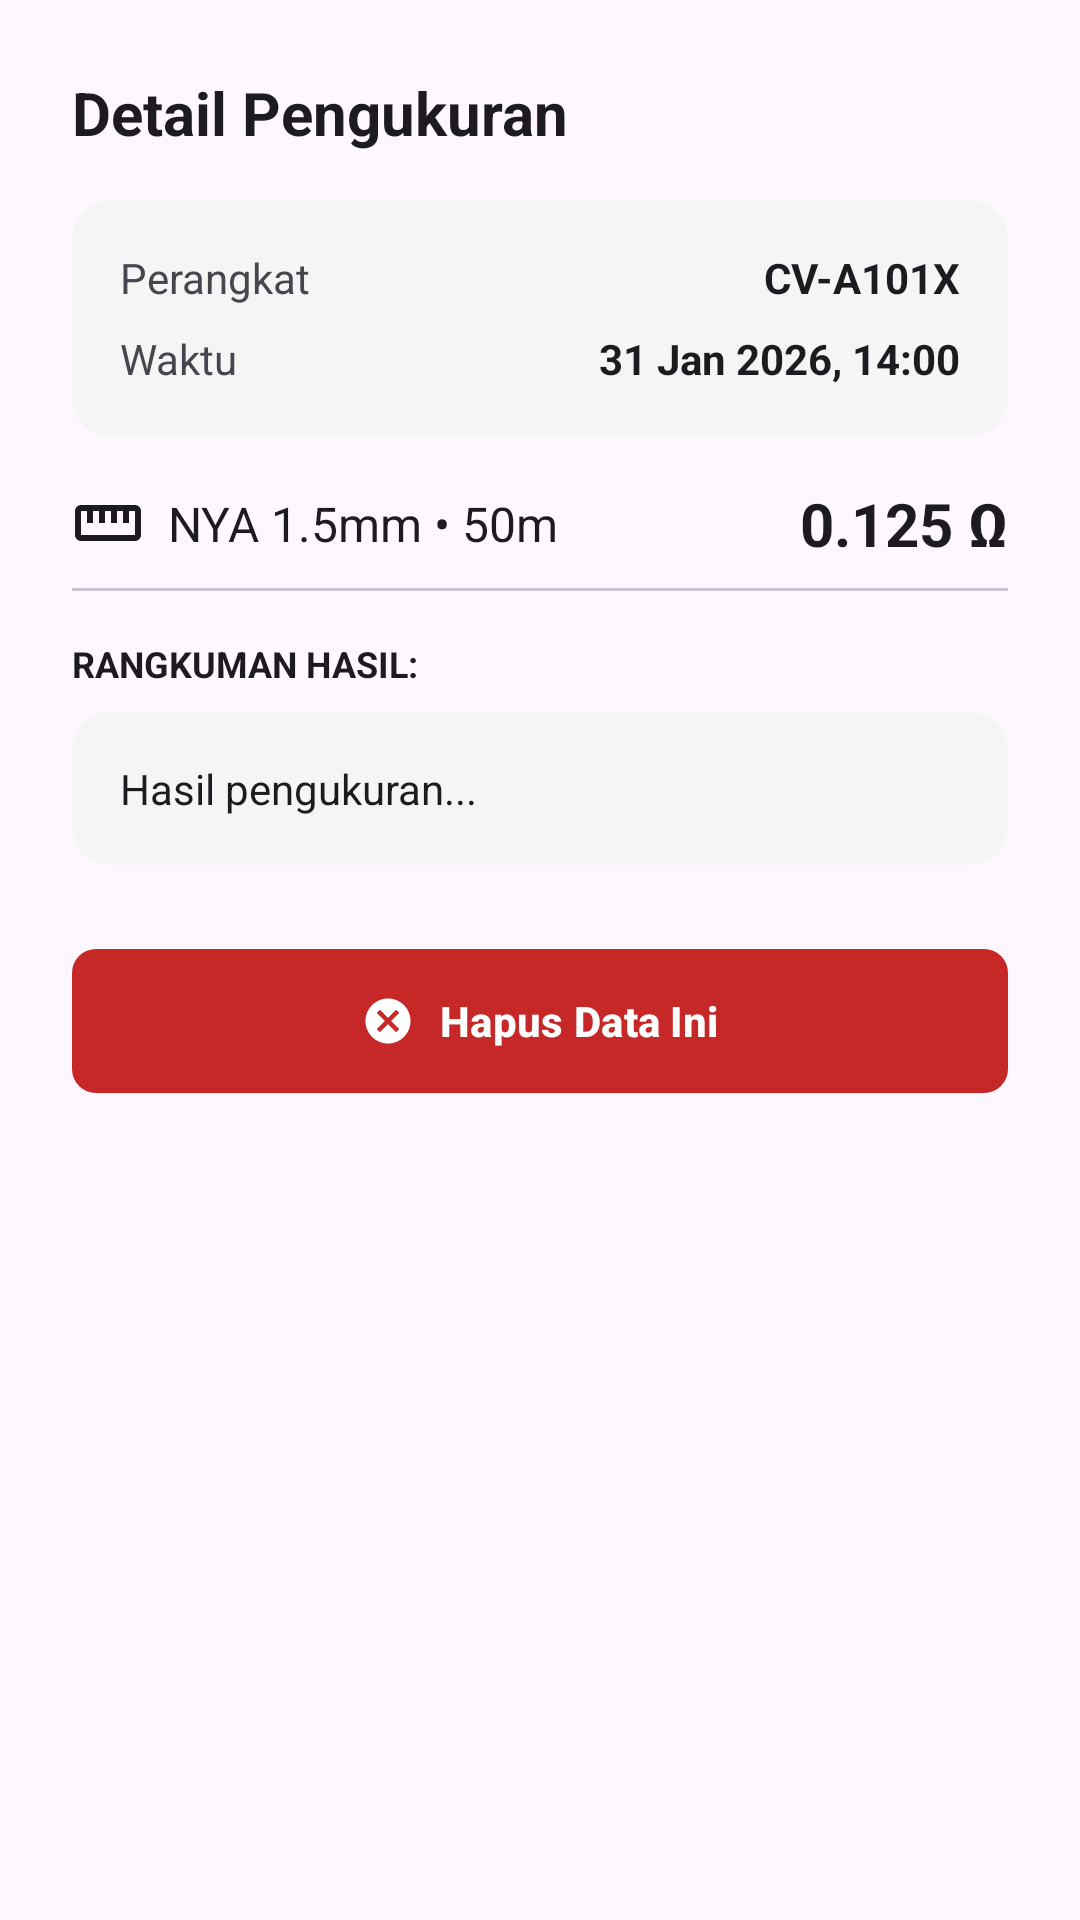

Icon click points for this 1080 x 1920 phone screenshot, format (x,y):
straighten: (108,523)
